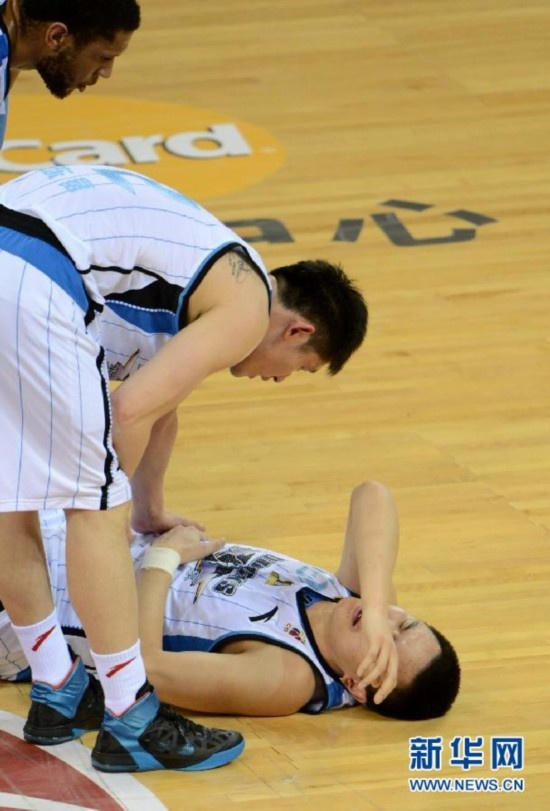falling: (11, 484, 480, 742)
